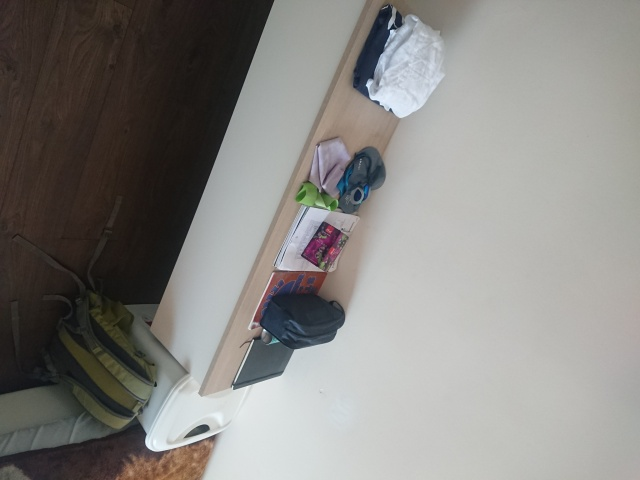Franck Black Currant Tea 60g: (298, 218, 351, 274)
